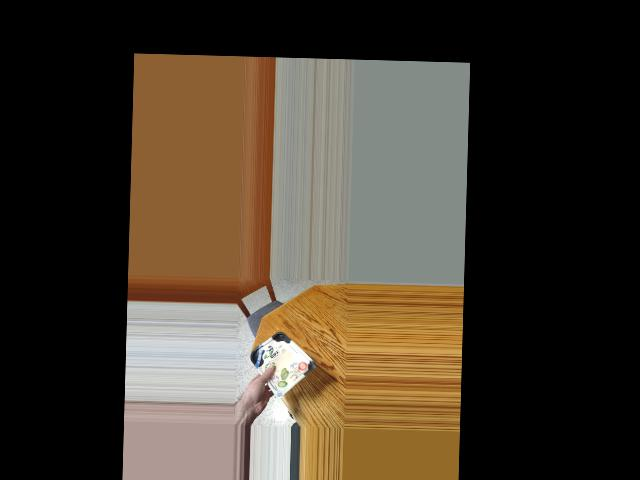cheese: (253, 339, 310, 379)
